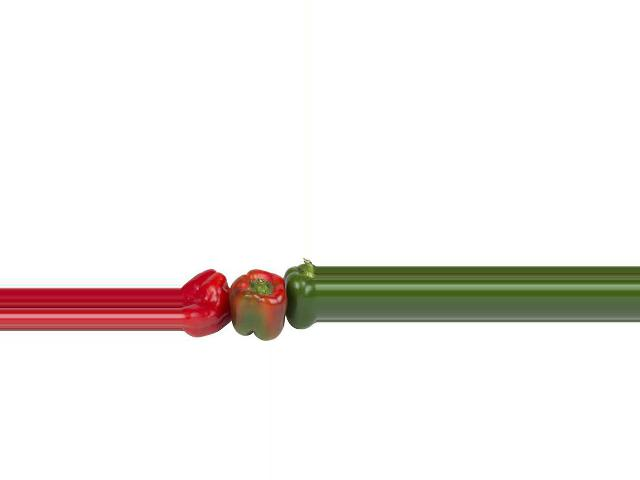bell_pepper: (181, 263, 232, 340)
